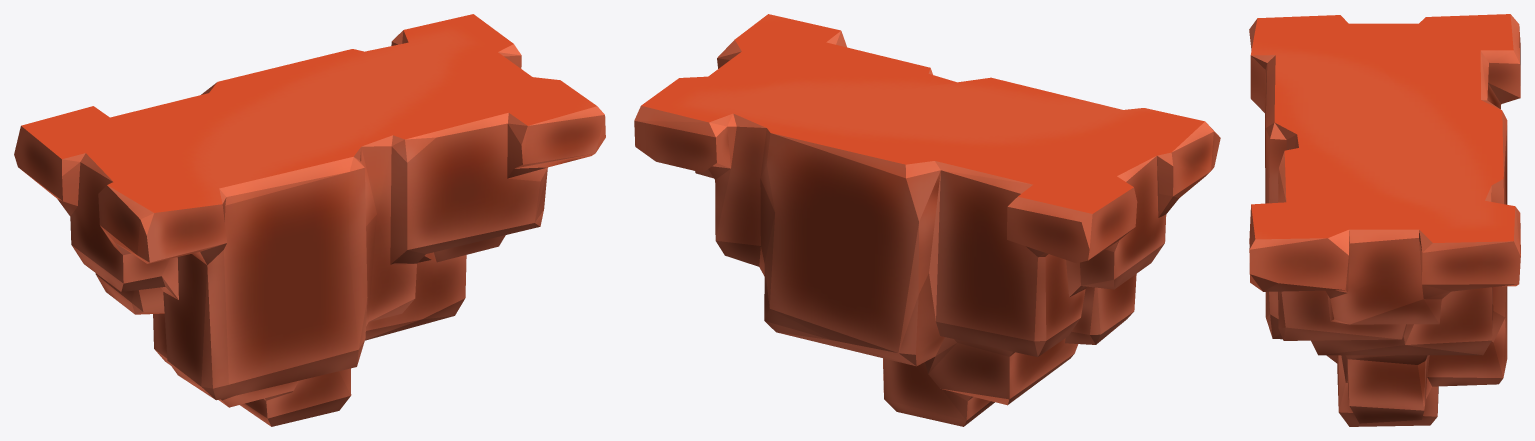
File: Platform_2_4.fbx
3 renders of one model, left to right at view 1: azimuth 30°, elevation 25°; view 2: azimuth 150°, elevation 25°; view 3: azimuth 270°, elevation 25°, orthographic. The views are drawn at different scales.
Parts seen in each view (by area): view 1: Cube.041; view 2: Cube.041; view 3: Cube.041.
Part boxes in pixels (<box>): Cube.041: <box>14,14,605,426</box>; Cube.041: <box>634,14,1220,426</box>; Cube.041: <box>1249,14,1520,426</box>.
Bounding box in the file's own units: 400 × 238 × 200.
